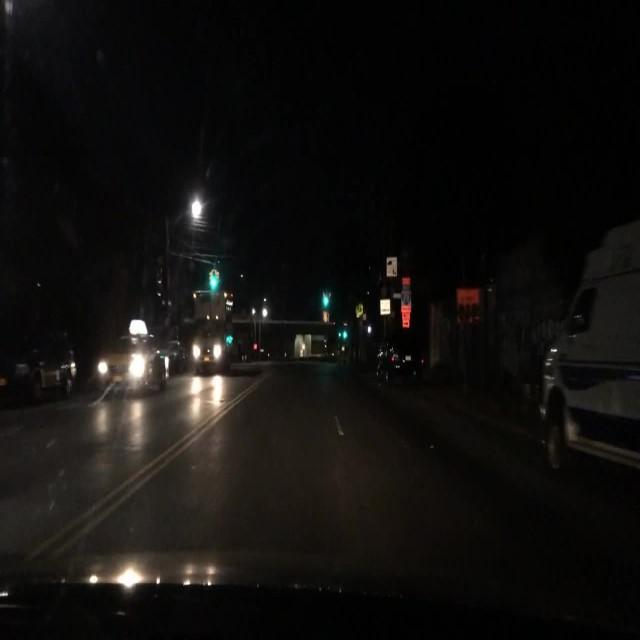normal: (71, 289, 183, 404), (177, 279, 239, 383)
